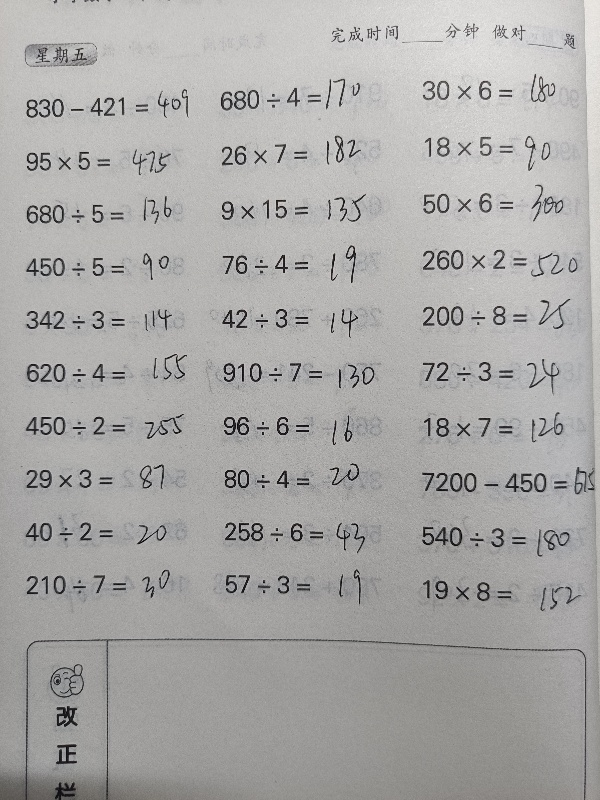equation: (413, 293, 593, 340), (212, 75, 392, 121), (216, 509, 396, 554), (413, 519, 593, 563), (414, 460, 594, 503), (414, 241, 594, 282), (416, 129, 583, 173), (414, 176, 574, 221), (17, 510, 197, 549), (212, 136, 392, 172), (414, 573, 594, 608), (416, 410, 596, 445), (215, 355, 395, 390), (415, 354, 595, 389), (214, 300, 394, 335), (17, 196, 197, 231), (17, 90, 197, 125), (216, 567, 396, 601), (17, 567, 197, 601), (216, 462, 396, 496), (18, 462, 198, 496), (215, 409, 395, 443), (17, 409, 197, 443), (18, 356, 198, 390), (18, 303, 198, 337), (18, 250, 198, 284), (214, 247, 394, 281), (212, 192, 392, 226), (17, 144, 197, 178), (414, 68, 565, 108)
